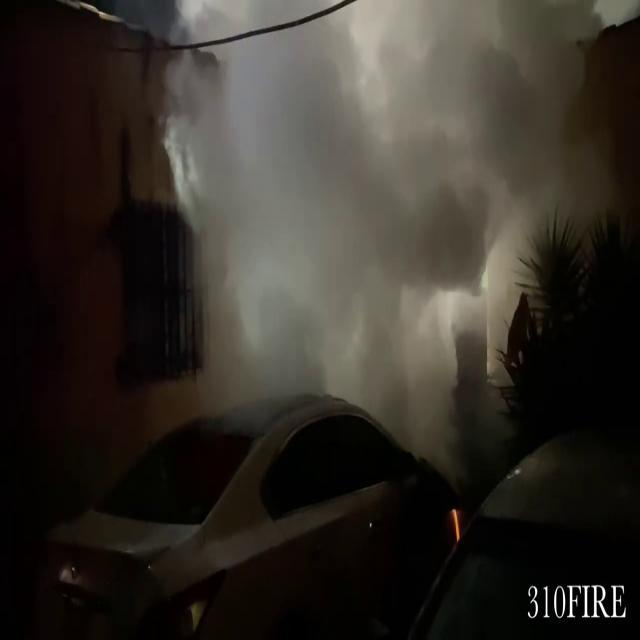Smoke: (143, 0, 620, 442)
